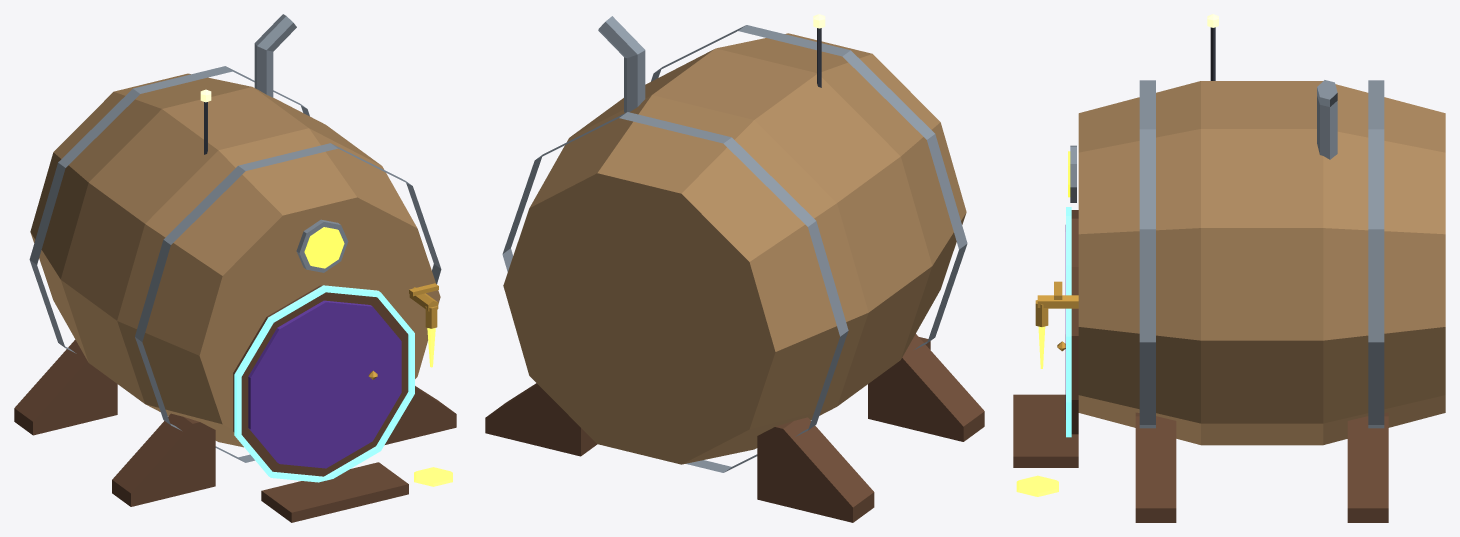
The model's file is Bldg_Home_BarrelHouse.fbx.
The picture shows the model from 3 angles, left to right: view 1: azimuth 30°, elevation 25°; view 2: azimuth 150°, elevation 25°; view 3: azimuth 270°, elevation 25°; orthographic projection. The views are drawn at different scales.
Visible parts, largest first — view 1: Bldg_Home_BarrelHouse_Body, Bldg_Home_BarrelHouse_Door; view 2: Bldg_Home_BarrelHouse_Body; view 3: Bldg_Home_BarrelHouse_Body.
Part boxes in pixels (<box>): Bldg_Home_BarrelHouse_Body: <box>14,14,456,522</box>; Bldg_Home_BarrelHouse_Door: <box>248,300,401,468</box>; Bldg_Home_BarrelHouse_Body: <box>485,14,984,522</box>; Bldg_Home_BarrelHouse_Body: <box>1013,14,1445,522</box>.
Size of the model in its own units: 5 by 5.4 by 5.3.
